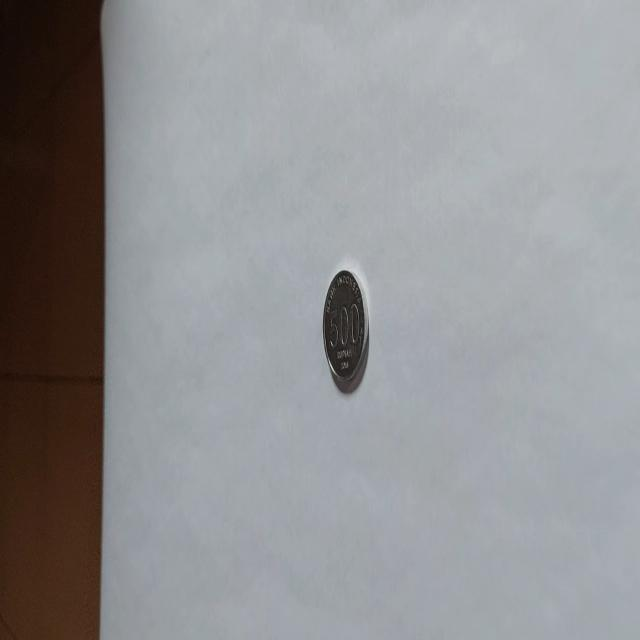lima ratus rupiah: (320, 267, 370, 393)
